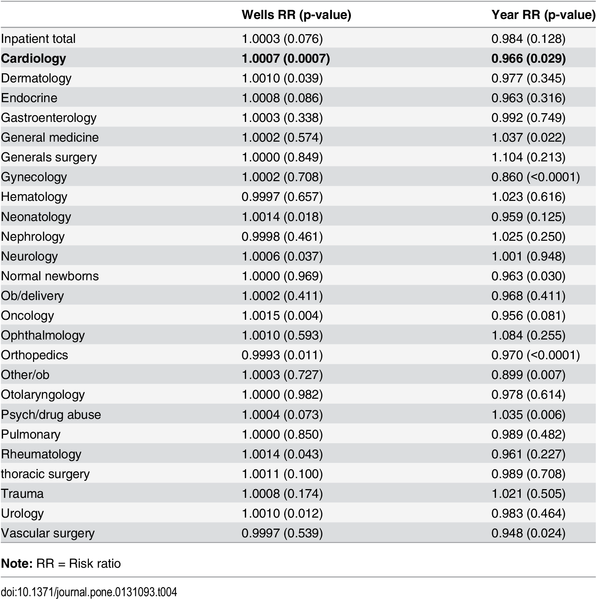fracking table: (1, 1, 597, 545)
